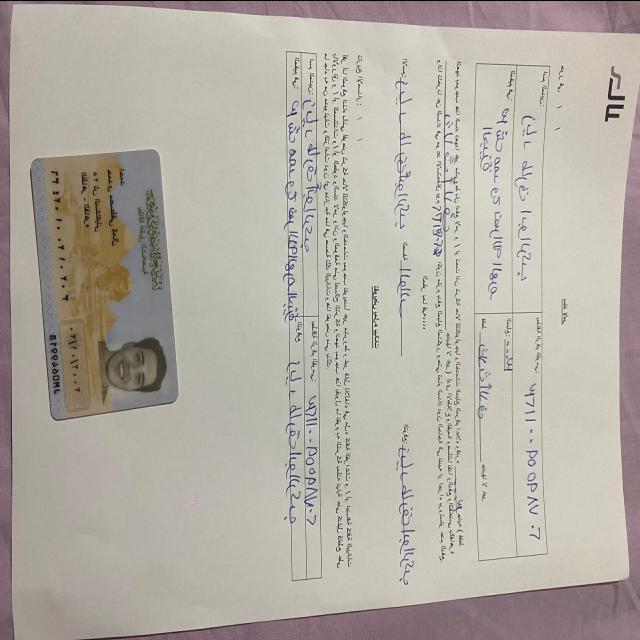ID-cards: (20, 134, 181, 432)
